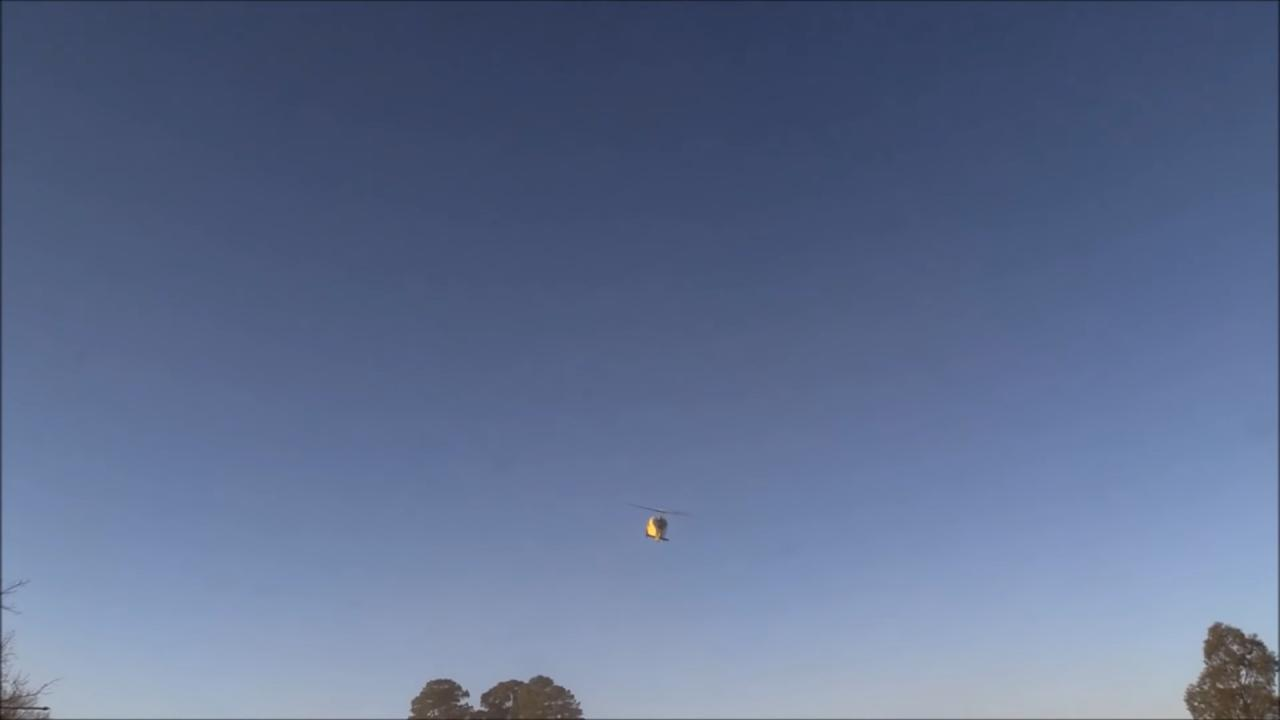Helicopter: (597, 482, 721, 565)
